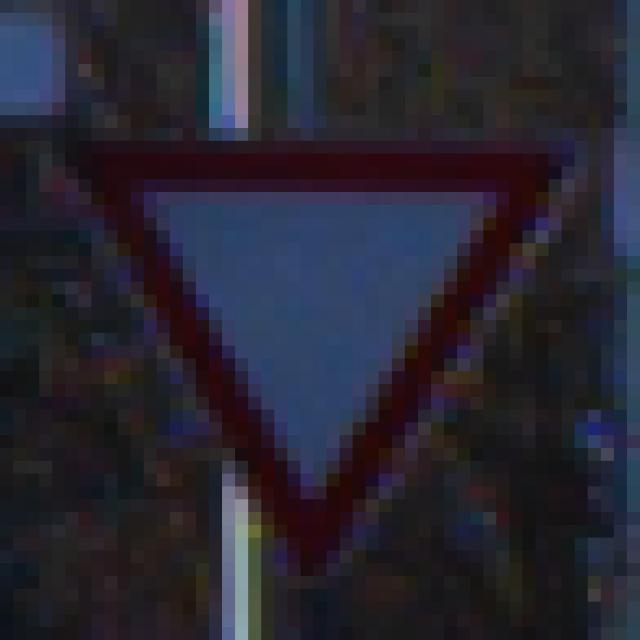Give Way: (66, 78, 576, 577)
